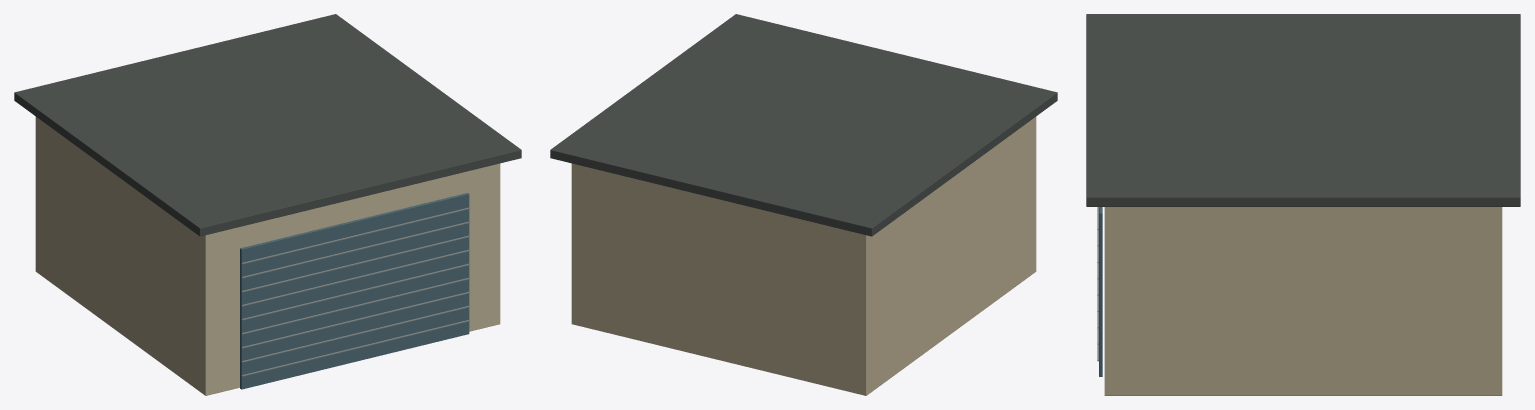
File: env_garage_detached.gltf
3 renders of one model, left to right at view 1: azimuth 30°, elevation 25°; view 2: azimuth 150°, elevation 25°; view 3: azimuth 270°, elevation 25°, orthographic. The views are drawn at different scales.
Parts seen in each view (by area): view 1: env_garage_detached__roof, env_garage_detached__paint_cream, env_garage_detached__paint_blue, env_garage_detached__steel; view 2: env_garage_detached__paint_cream, env_garage_detached__roof; view 3: env_garage_detached__roof, env_garage_detached__paint_cream, env_garage_detached__paint_blue.
Part boxes in pixels (left/top/right/bottom): env_garage_detached__roof: left=14, top=14, right=521, bottom=236; env_garage_detached__paint_cream: left=35, top=116, right=500, bottom=395; env_garage_detached__paint_blue: left=240, top=193, right=469, bottom=389; env_garage_detached__steel: left=241, top=207, right=470, bottom=376; env_garage_detached__paint_cream: left=571, top=116, right=1036, bottom=395; env_garage_detached__roof: left=550, top=14, right=1057, bottom=236; env_garage_detached__roof: left=1086, top=14, right=1520, bottom=206; env_garage_detached__paint_cream: left=1104, top=207, right=1502, bottom=395; env_garage_detached__paint_blue: left=1099, top=207, right=1102, bottom=376.
Bounding box in the file's own units: 24 × 12.6 × 24.
